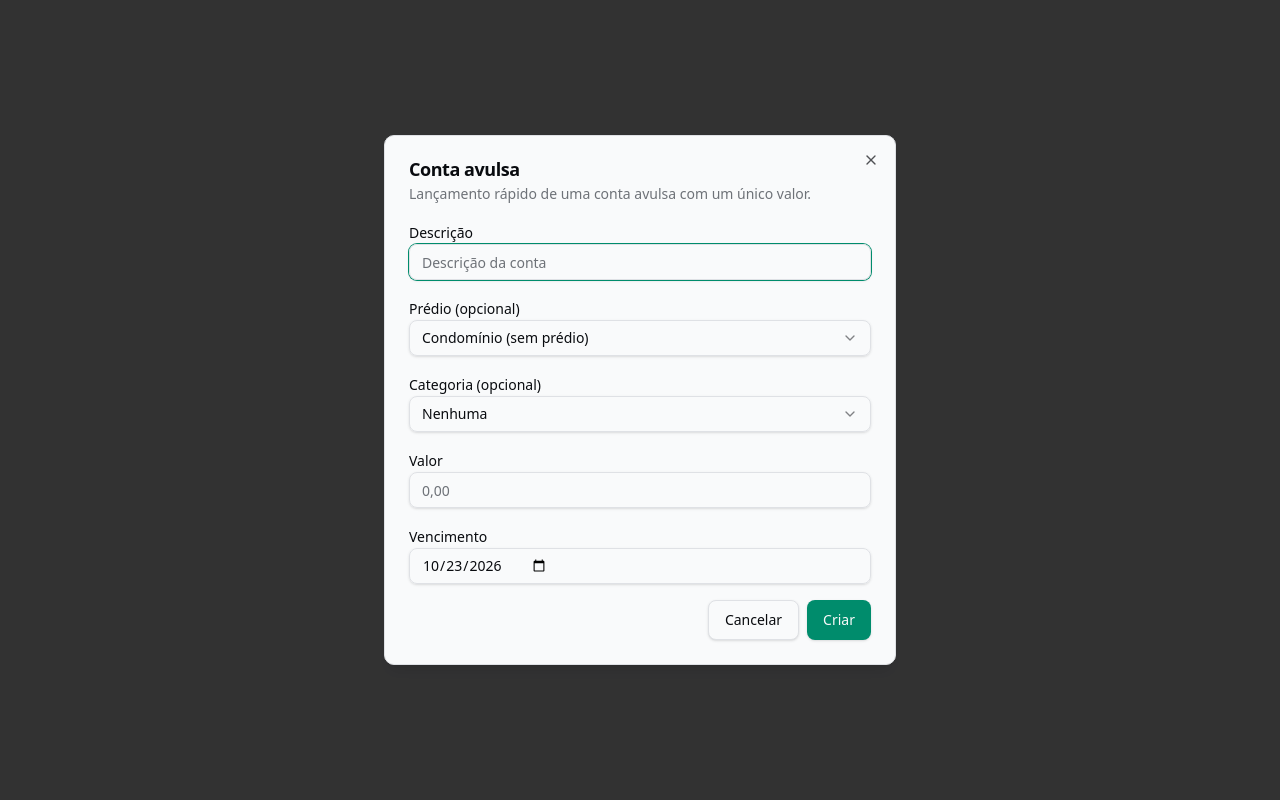
Test: QuickBillDialog › validates required fields (descrição, valor > 0, vencimento) in PT
Expected: the field labelled "Descrição" is shown, [409, 244, 871, 280]
Click the button "Criar".
click(839, 620)  # box [807, 600, 871, 640]
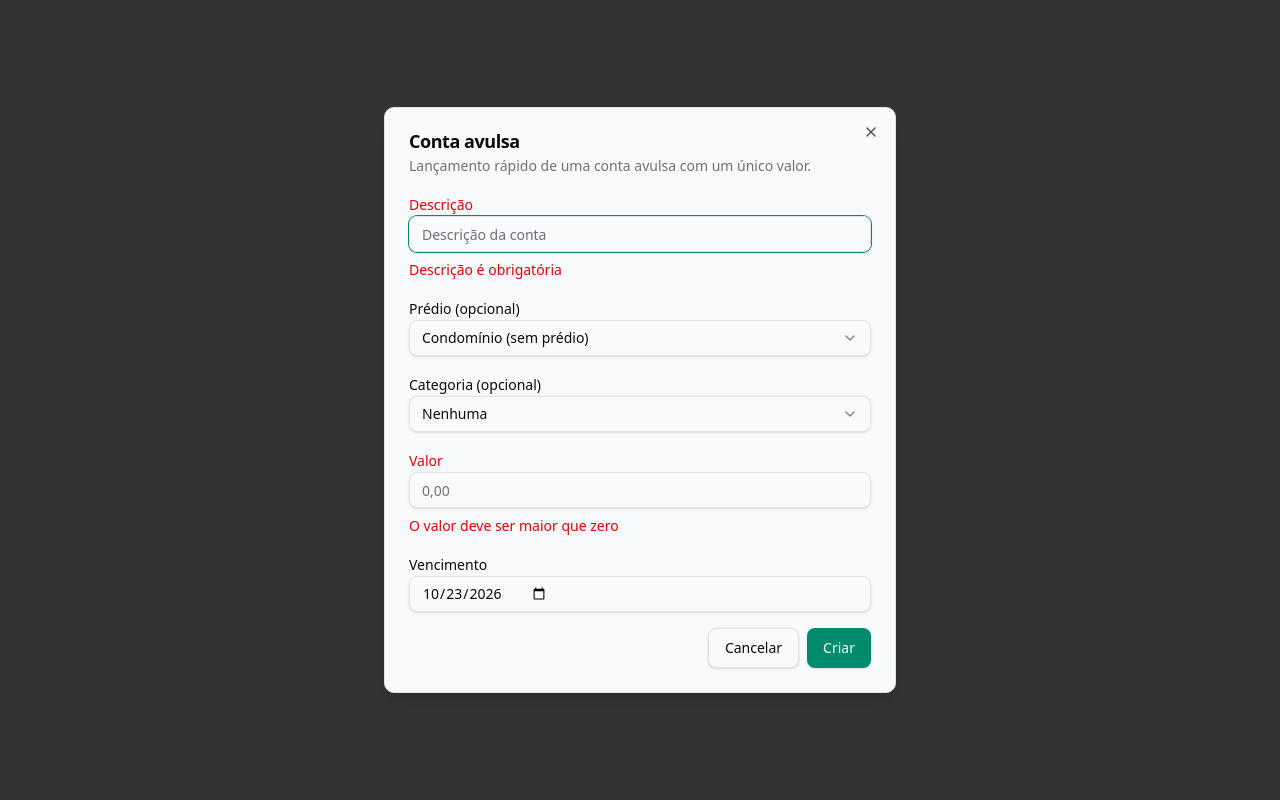
Result: the text "Descrição é obrigatória" is shown at [409, 260, 562, 279]
Result: the text "O valor deve ser maior que zero" is shown at [409, 516, 619, 535]
